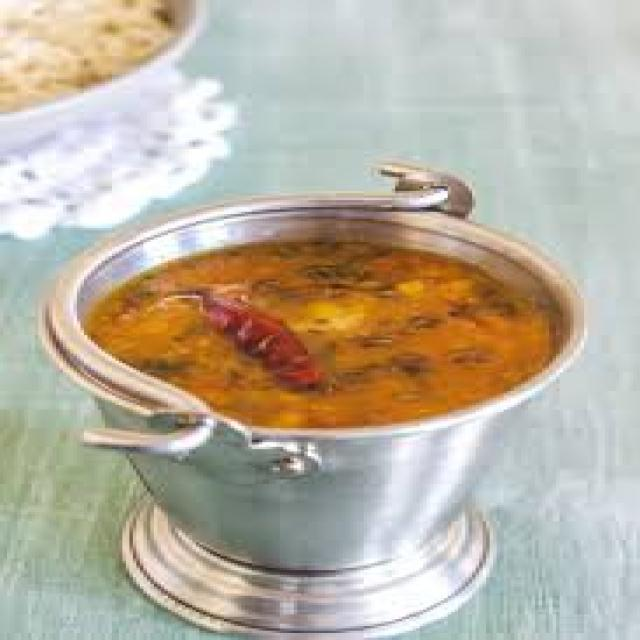dal: (120, 248, 501, 406)
